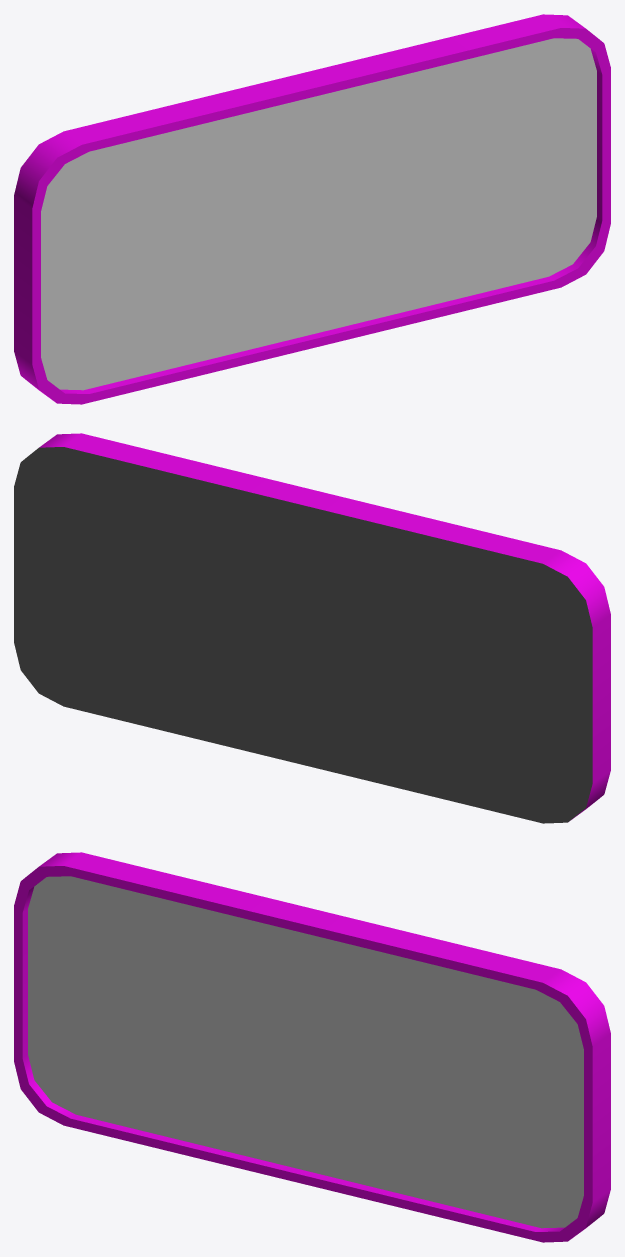
The model's file is LabelOBJ.fbx.
The picture shows the model from 3 angles, top to bottom: view 1: azimuth 30°, elevation 25°; view 2: azimuth 150°, elevation 25°; view 3: azimuth 330°, elevation 25°; orthographic projection.
Parts seen in each view (by area): view 1: SignMesh; view 2: SignMesh; view 3: SignMesh.
Boxes of the visible parts, box(x1,y1,x2,y2) form: SignMesh: box(14, 14, 610, 404); SignMesh: box(14, 433, 610, 823); SignMesh: box(14, 852, 610, 1242).
Bounding box in the file's own units: 666 × 286 × 36.52.
